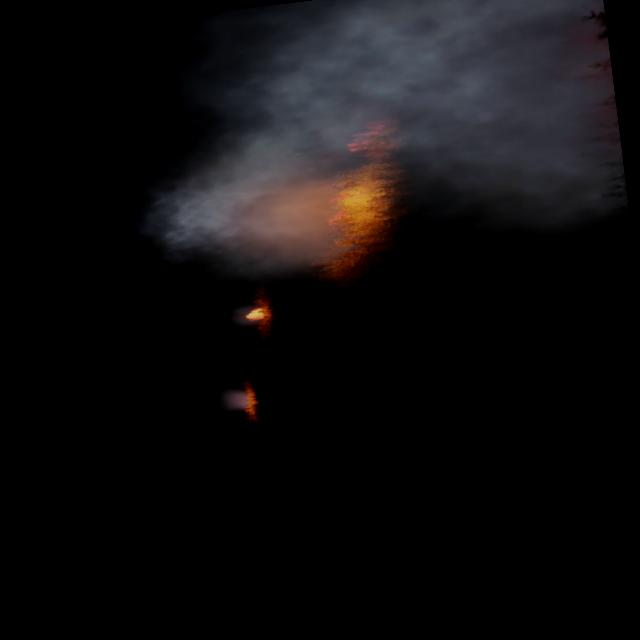fire: (310, 159, 383, 257), (240, 306, 262, 322)
smoke: (78, 0, 631, 300), (213, 382, 250, 413), (224, 300, 258, 330)
